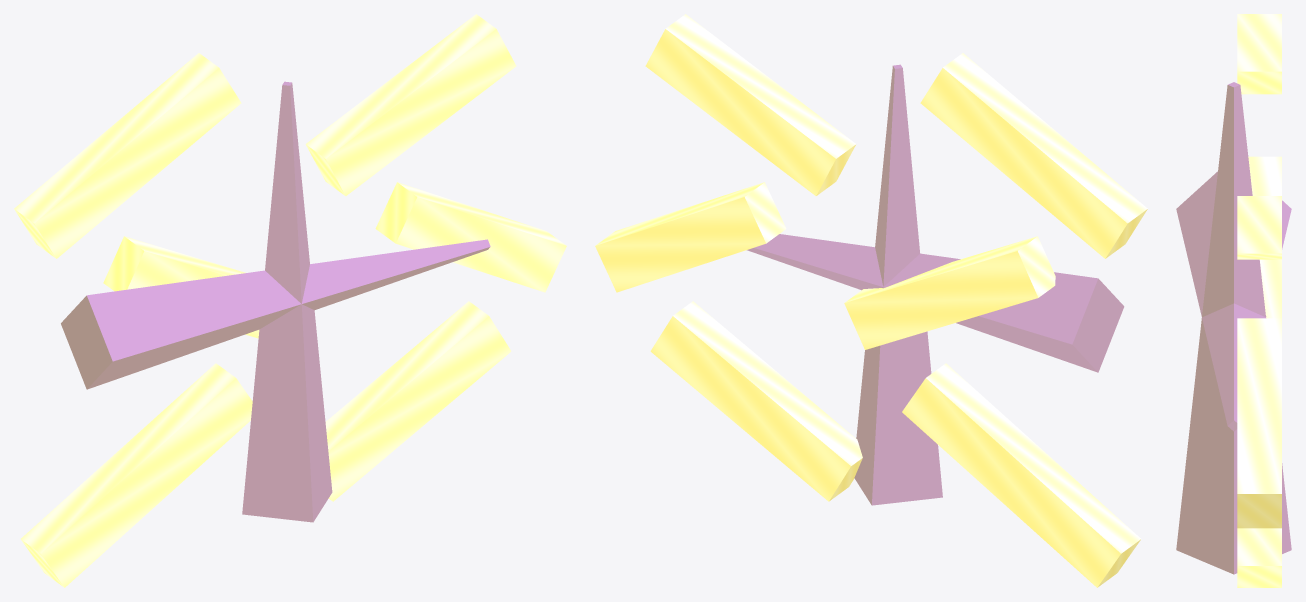
Rendered from sfx-beonjjeok.glb.
3 views of the same model, side by side, from view 1: azimuth 30°, elevation 25°; view 2: azimuth 150°, elevation 25°; view 3: azimuth 270°, elevation 25° (orthographic). The views are drawn at different scales.
Visible parts, largest first — view 1: TS_SfxStamp_beonjjeok; view 2: TS_SfxStamp_beonjjeok; view 3: TS_SfxStamp_beonjjeok.
Part boxes in pixels (x1,y1,x2,y2): TS_SfxStamp_beonjjeok: (14, 14, 566, 587); TS_SfxStamp_beonjjeok: (595, 14, 1147, 587); TS_SfxStamp_beonjjeok: (1176, 14, 1291, 587).
Bounding box in the file's own units: 0.2125 × 0.184 × 0.036.
1 material, 1 textured.
